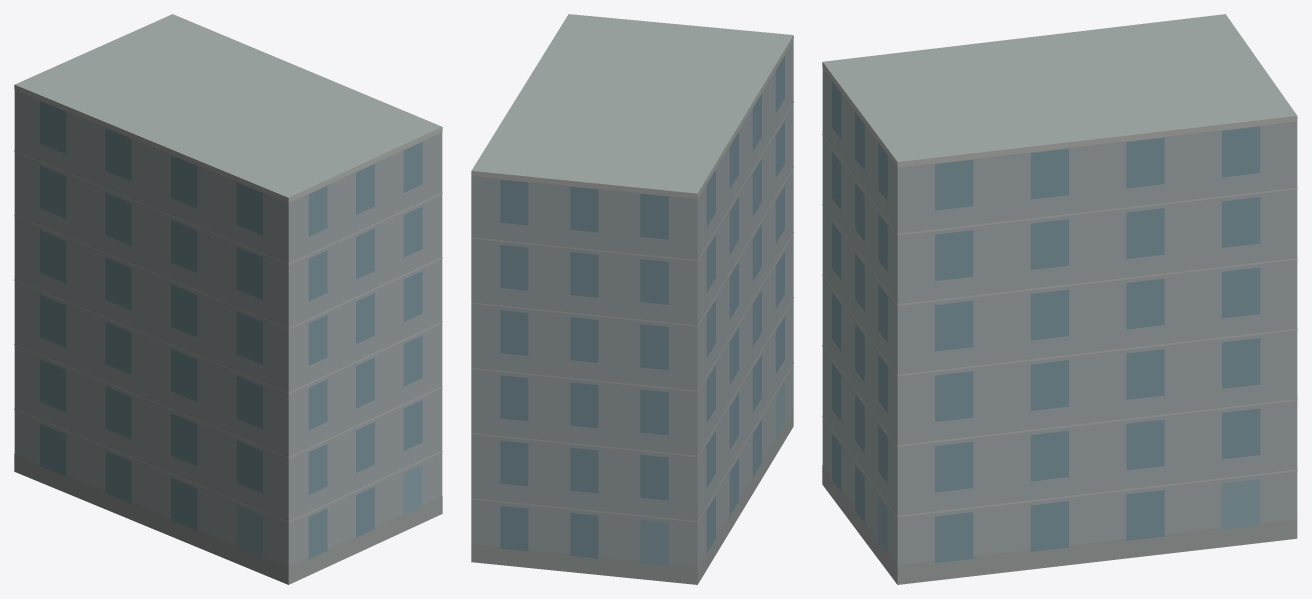
File: survey-upis-33044481.glb
3 views of the same model, side by side, from view 1: azimuth 30°, elevation 25°; view 2: azimuth 150°, elevation 25°; view 3: azimuth 270°, elevation 25° (orthographic). The views are drawn at different scales.
Visible parts, largest first — view 1: survey-upis-33044481.tmp; view 2: survey-upis-33044481.tmp; view 3: survey-upis-33044481.tmp.
Boxes of the visible parts, x1,y1,x2,y2 form: survey-upis-33044481.tmp: [14, 14, 442, 584]; survey-upis-33044481.tmp: [471, 14, 793, 584]; survey-upis-33044481.tmp: [822, 14, 1297, 584].
Size of the model in its own units: 13.77 by 18.3 by 18.65.
